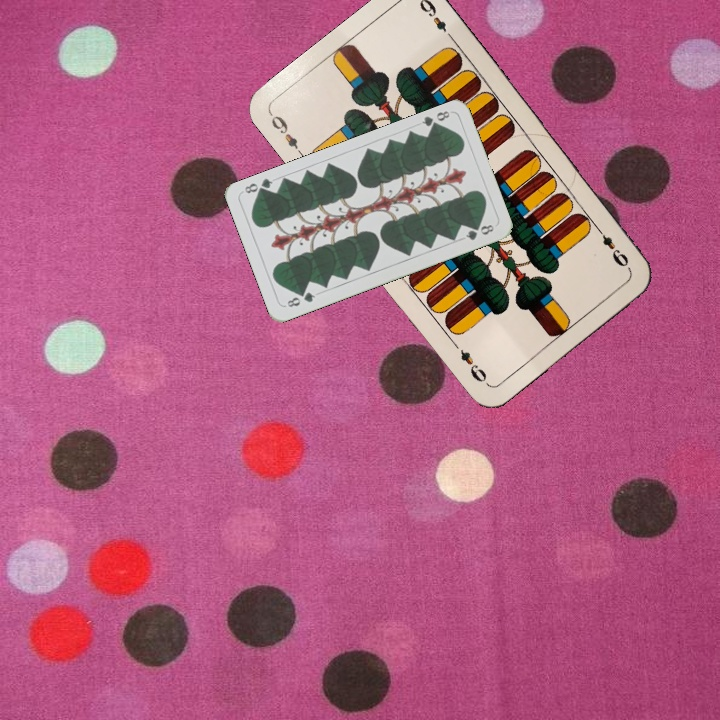E9: (592, 222, 634, 272), (266, 109, 307, 160)
G8: (418, 106, 452, 133), (283, 288, 318, 310)
